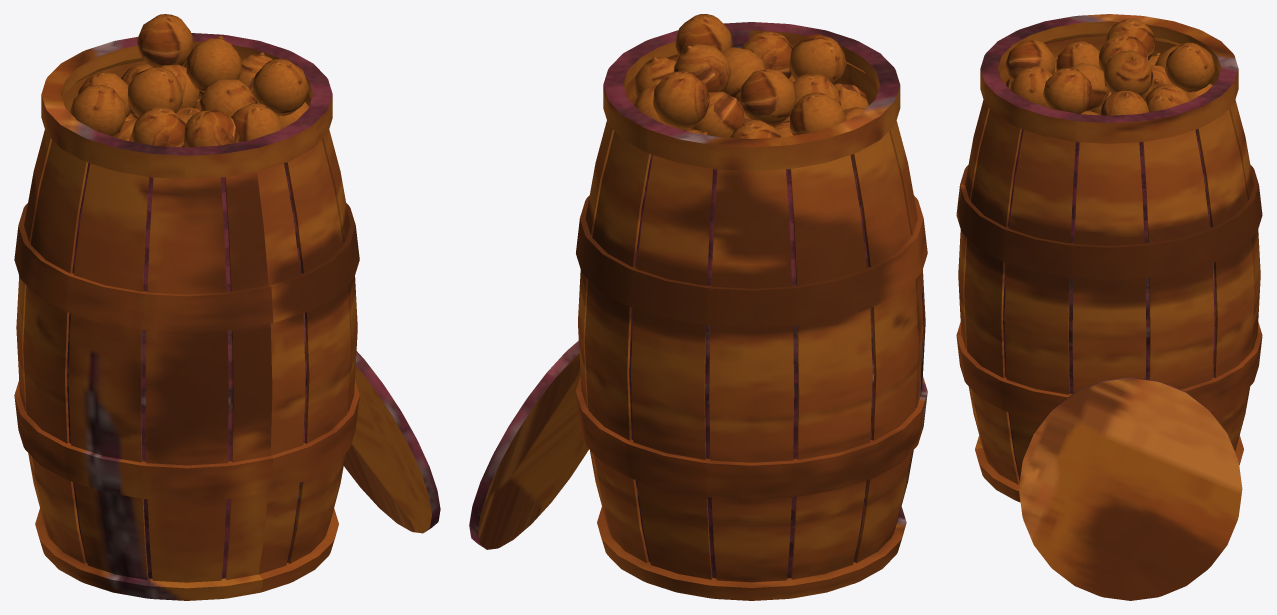
File: fruit barrel_9.fbx
3 views of the same model, side by side, from view 1: azimuth 30°, elevation 25°; view 2: azimuth 150°, elevation 25°; view 3: azimuth 270°, elevation 25° (orthographic). The views are drawn at different scales.
Parts seen in each view (by area): view 1: Circle.016, Circle.019, Plane.1474, Plane.1465, Plane.1475, Plane.1466, Plane.1472, Plane.1473, Plane.1467, Plane.1468, Plane.1462, Plane.1460 (+2 smaller); view 2: Circle.016, Circle.019, Plane.1465, Plane.1472, Plane.1467, Plane.1475, Plane.1466, Plane.1474, Plane.1469, Plane.1462, Plane.1468, Plane.1470 (+3 smaller); view 3: Circle.016, Circle.019, Plane.1465, Plane.1474, Plane.1475, Plane.1467, Plane.1462, Plane.1470, Plane.1473, Plane.1458, Plane.1466, Plane.1472 (+1 smaller).
Boxes of the visible parts, x1,y1,x2,y2 form: Circle.016: (14,33,359,600); Circle.019: (343,351,440,533); Plane.1474: (252,58,308,116); Plane.1465: (137,14,192,67); Plane.1475: (186,36,242,92); Plane.1466: (70,85,125,136); Plane.1472: (128,66,183,117); Plane.1473: (131,107,185,147); Plane.1467: (183,110,239,147); Plane.1468: (200,79,255,117); Plane.1462: (231,103,282,142); Plane.1460: (78,72,130,117); Circle.016: (576,22,927,600); Circle.019: (469,341,588,549); Plane.1465: (653,71,710,130); Plane.1472: (739,69,796,126); Plane.1467: (789,34,846,84); Plane.1475: (674,44,731,92); Plane.1466: (790,92,846,135); Plane.1474: (675,14,732,56); Plane.1469: (690,91,744,137); Plane.1462: (742,31,792,78); Plane.1468: (723,47,764,101); Plane.1470: (634,56,676,96); Circle.016: (956,14,1262,502); Circle.019: (1019,377,1242,600); Plane.1465: (1165,42,1214,92); Plane.1474: (1043,68,1092,113); Plane.1475: (1104,50,1153,95); Plane.1467: (1005,40,1055,80); Plane.1462: (1010,66,1052,107); Plane.1470: (1100,90,1149,115); Plane.1473: (1056,41,1100,70); Plane.1458: (1145,84,1190,112); Plane.1466: (1105,18,1155,60); Plane.1472: (1099,34,1148,71).
Size of the model in its own units: 45.26 by 60.29 by 35.65.
